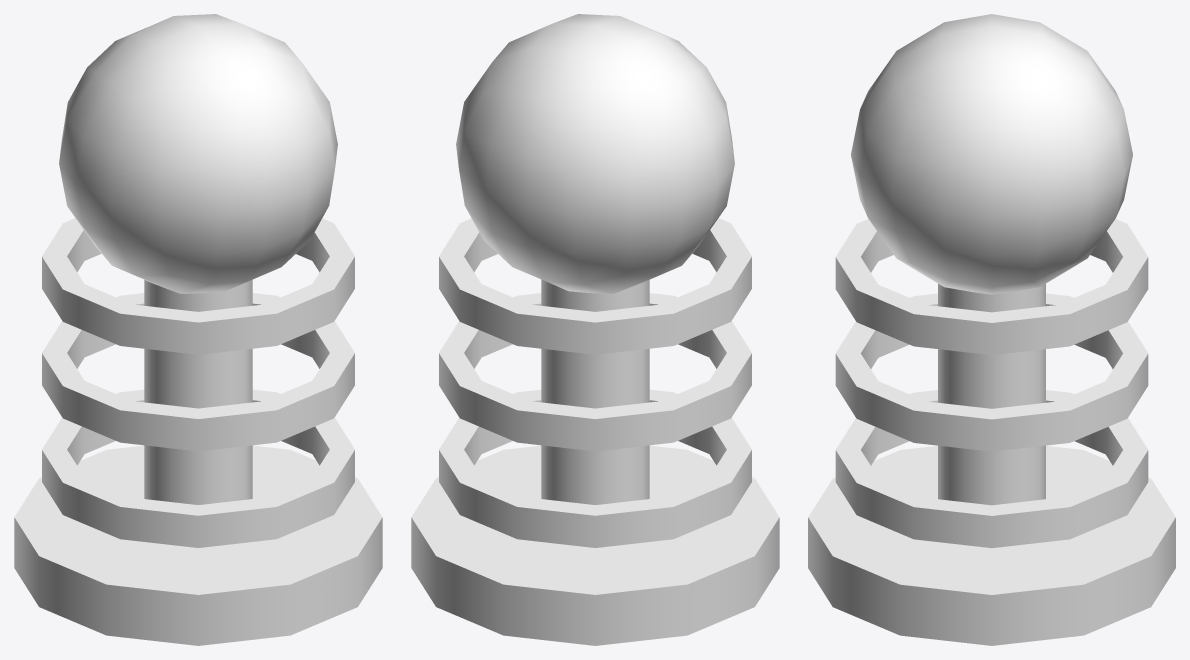
File: Tesla_tower.fbx
3 views of the same model, side by side, from view 1: azimuth 30°, elevation 25°; view 2: azimuth 150°, elevation 25°; view 3: azimuth 270°, elevation 25° (orthographic).
Parts seen in each view (by area): view 1: Tesla_tower; view 2: Tesla_tower; view 3: Tesla_tower.
Part boxes in pixels (<box>): Tesla_tower: <box>14,14,382,645</box>; Tesla_tower: <box>411,14,779,645</box>; Tesla_tower: <box>808,14,1175,645</box>.
Size of the model in its own units: 2.61 by 4.23 by 2.61.
